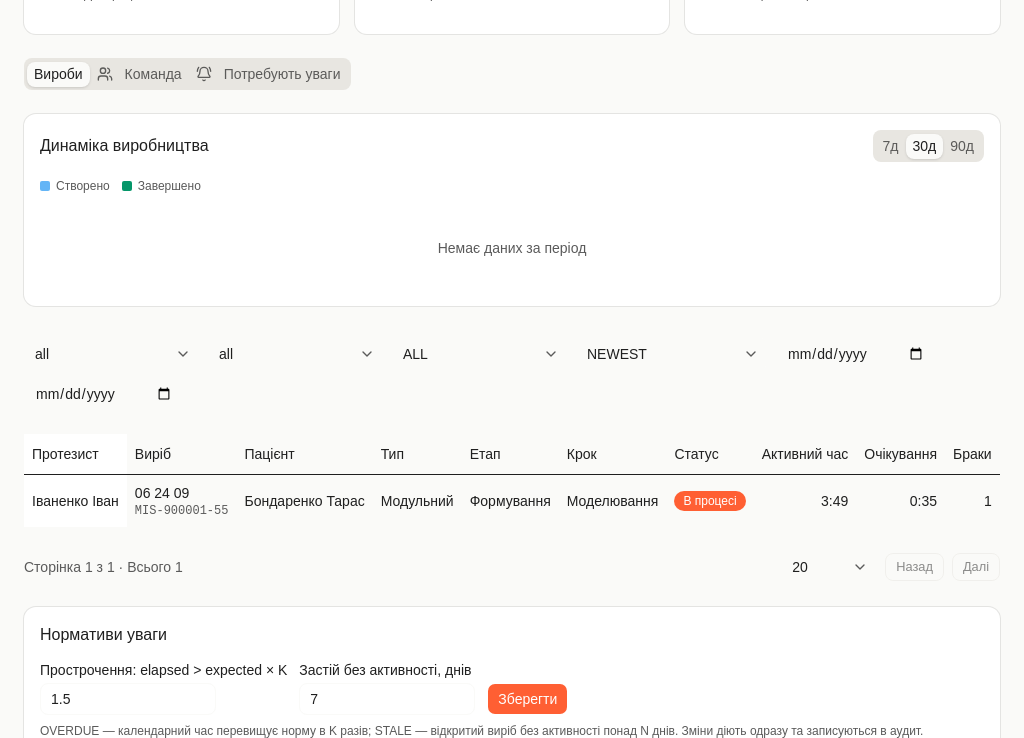
Test case: ProductionPage › passes the quality filter to the API
This screenshot has width=1024, height=738.
(page scrolled)
Check: the text "Бондаренко Тарас" is shown, box [236,474,373,526]
Click the dropdown named "Якість".
click(480, 354)  # box [392,338,568,370]
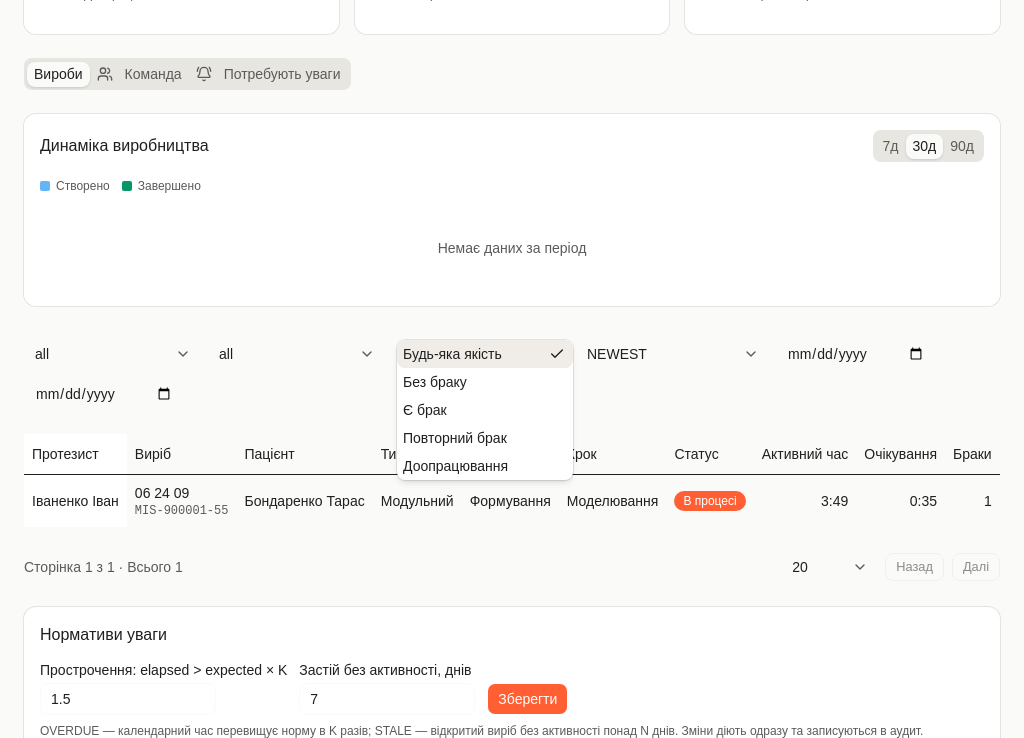
Click the option "Є брак".
click(425, 410)  # box [403,402,447,418]
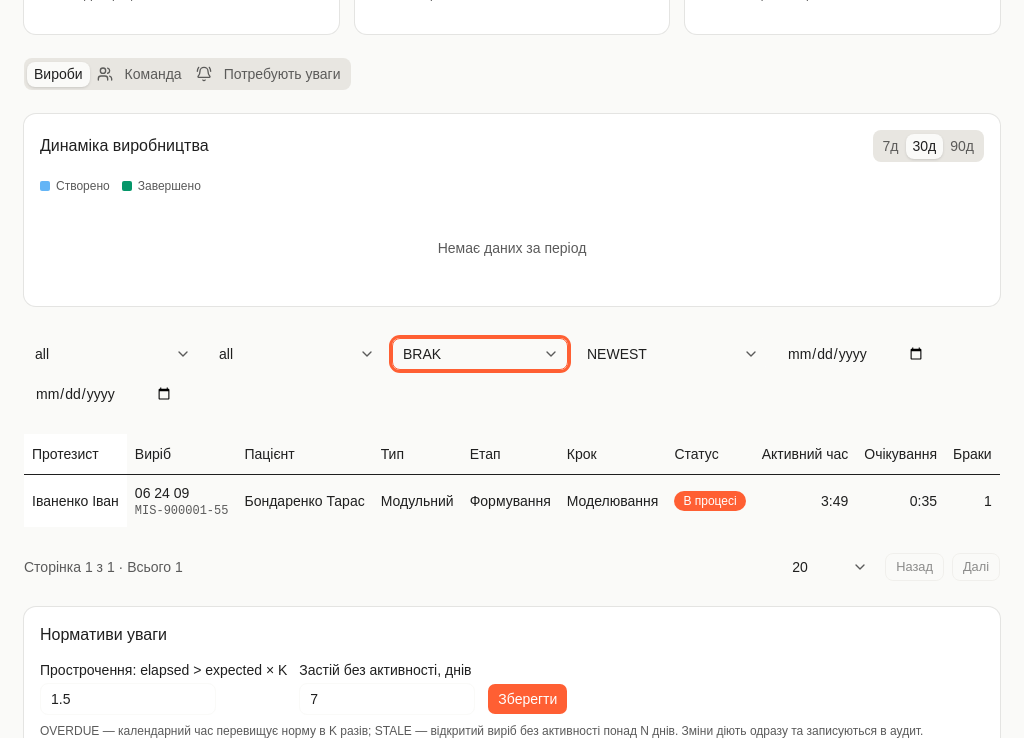
Check: the text "BRAK" is shown, box [403,346,441,362]
